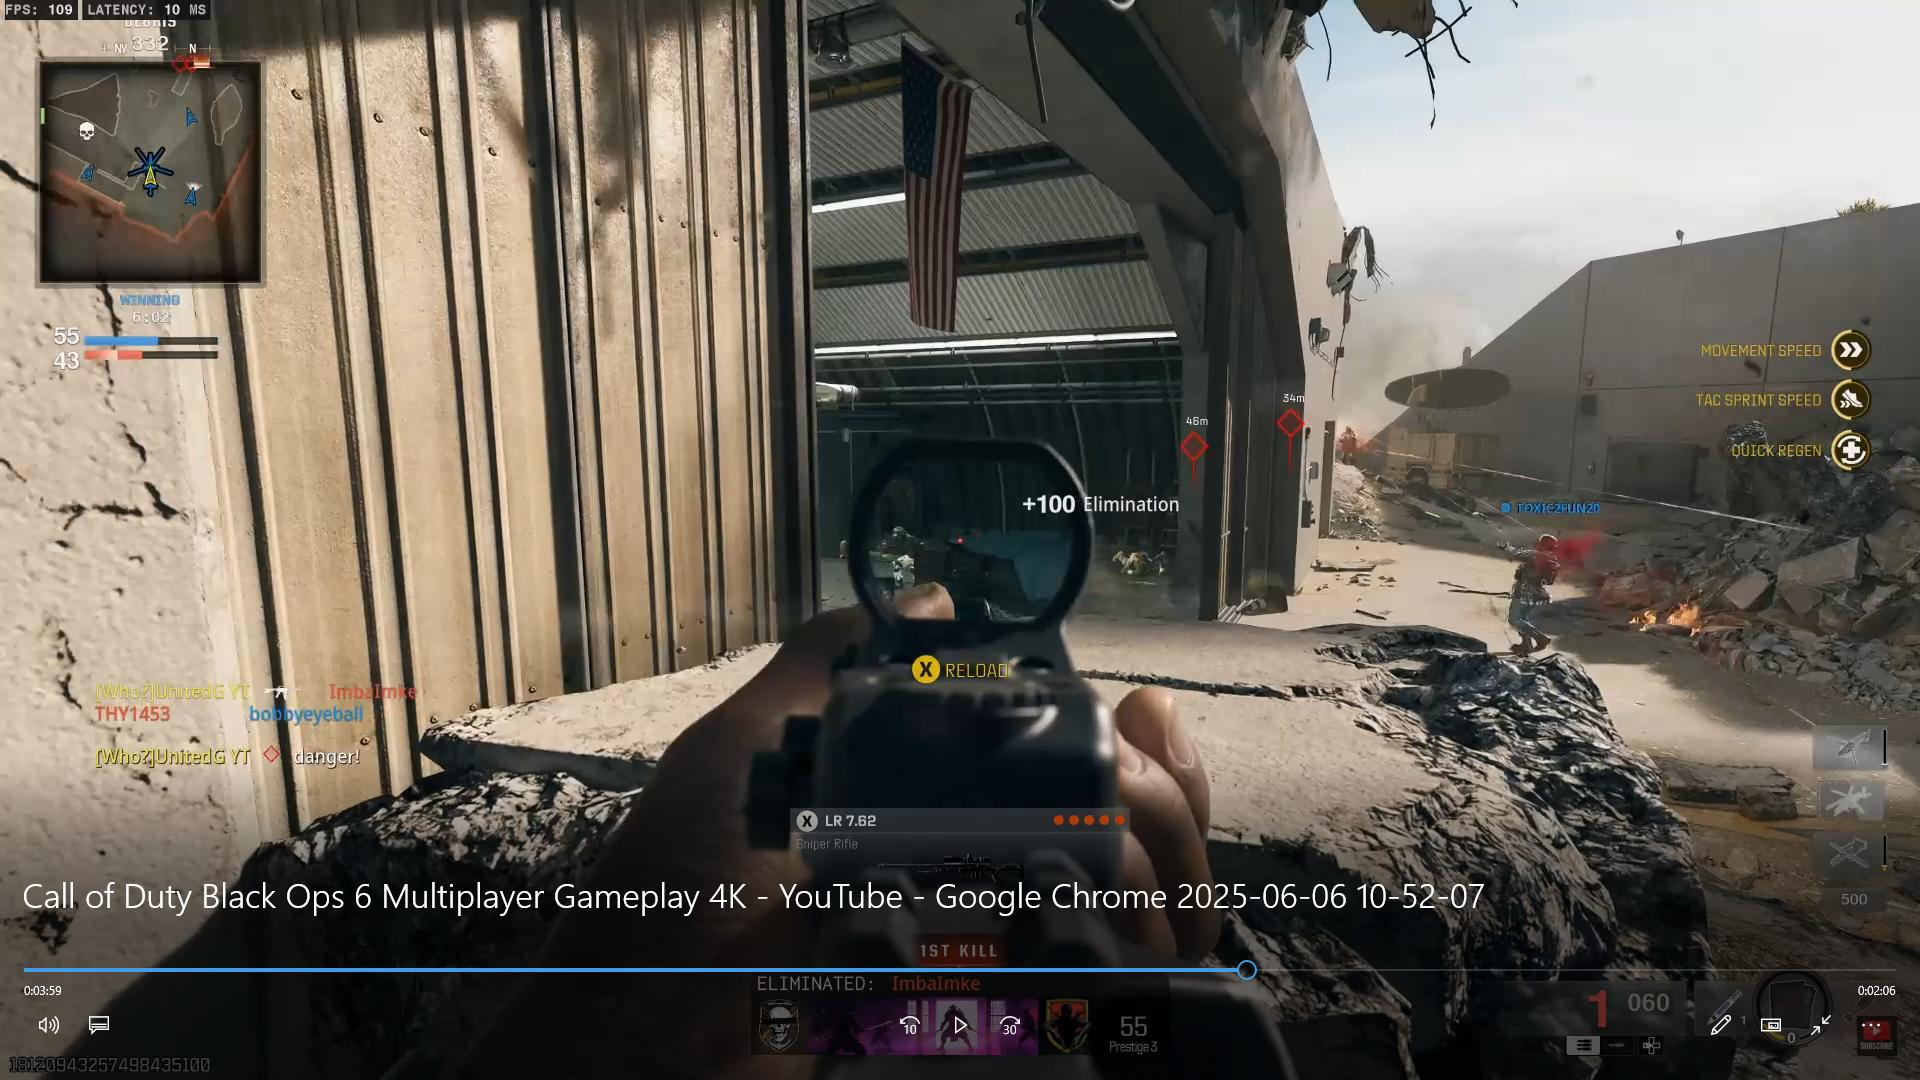Enemy: (1481, 521, 1584, 663), (873, 514, 920, 580), (1333, 422, 1367, 472)
